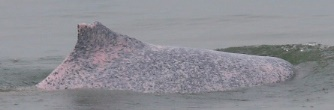fin: (23, 14, 306, 100)
